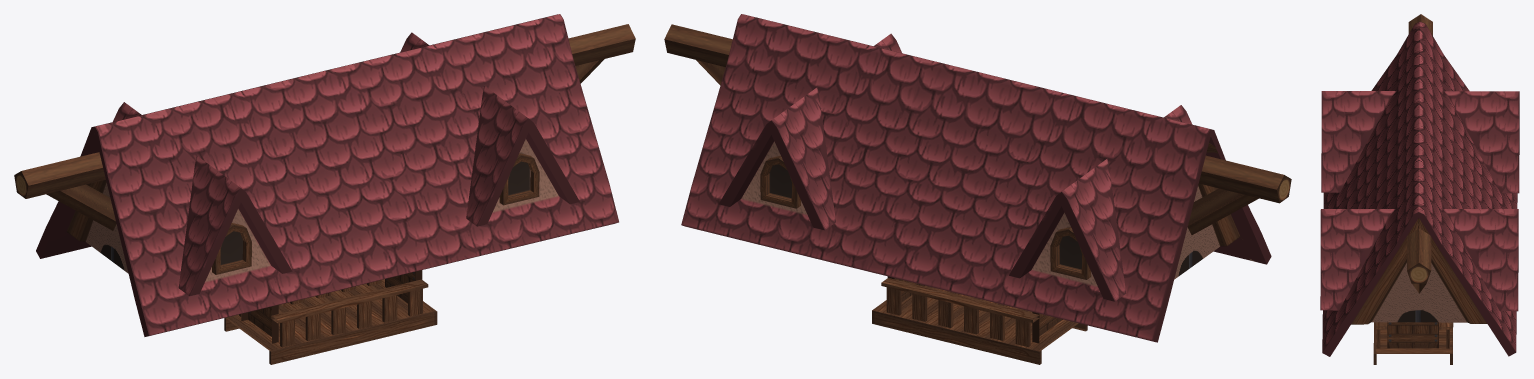
File: House7And6Roof.obj
3 renders of one model, left to right at view 1: azimuth 30°, elevation 25°; view 2: azimuth 150°, elevation 25°; view 3: azimuth 270°, elevation 25°, orthographic. The views are drawn at different scales.
Parts seen in each view (by area): view 1: HouseRoofAndBridge1; view 2: HouseRoofAndBridge1; view 3: HouseRoofAndBridge1.
Boxes of the visible parts, bbox=[...] form: HouseRoofAndBridge1: bbox=[14, 14, 635, 364]; HouseRoofAndBridge1: bbox=[664, 14, 1291, 364]; HouseRoofAndBridge1: bbox=[1320, 14, 1519, 364].
Size of the model in its own units: 80.87 by 32.46 by 27.35.
